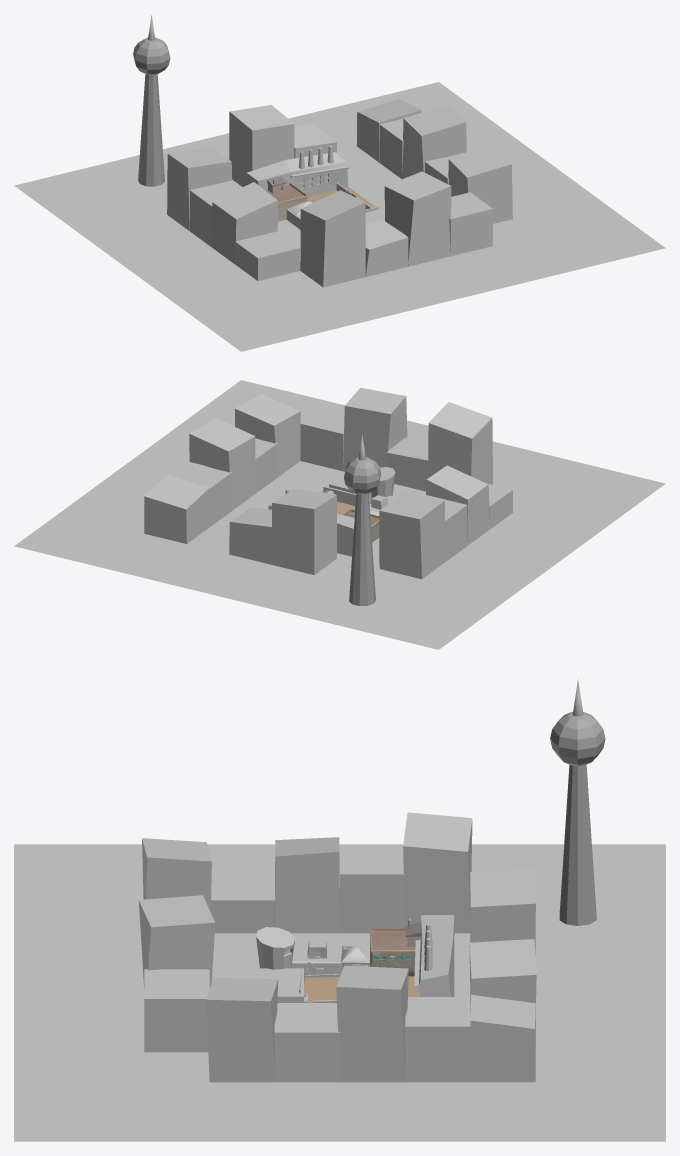
The model's file is NewCity.fbx.
3 views of the same model, one above another, from view 1: azimuth 30°, elevation 25°; view 2: azimuth 150°, elevation 25°; view 3: azimuth 270°, elevation 25° (orthographic). The views are drawn at different scales.
Visible parts, largest first — view 1: pPlane2, polySurface43, polySurface42, polySurface34; view 2: pPlane2, polySurface43, polySurface42, polySurface15, polySurface6; view 3: pPlane2, polySurface43, polySurface42, polySurface28, polySurface34, polySurface6, polySurface15, pPlane1.
Part boxes in pixels (box(x1,y1,x2,y2)): pPlane2: box(14, 82, 665, 351); polySurface43: box(133, 15, 170, 186); polySurface42: box(246, 152, 349, 196); polySurface34: box(266, 176, 307, 221); pPlane2: box(14, 380, 665, 649); polySurface43: box(344, 434, 380, 606); polySurface42: box(268, 504, 354, 556); polySurface15: box(323, 475, 371, 506); polySurface6: box(370, 467, 395, 498); pPlane2: box(14, 812, 665, 1141); polySurface43: box(550, 679, 605, 925); polySurface42: box(414, 915, 454, 996); polySurface28: box(291, 940, 369, 977); polySurface34: box(370, 918, 420, 976); polySurface6: box(256, 927, 295, 969); polySurface15: box(258, 968, 307, 1002); pPlane1: box(304, 976, 419, 1002).
Size of the model in its own units: 233 by 88.83 by 216.
